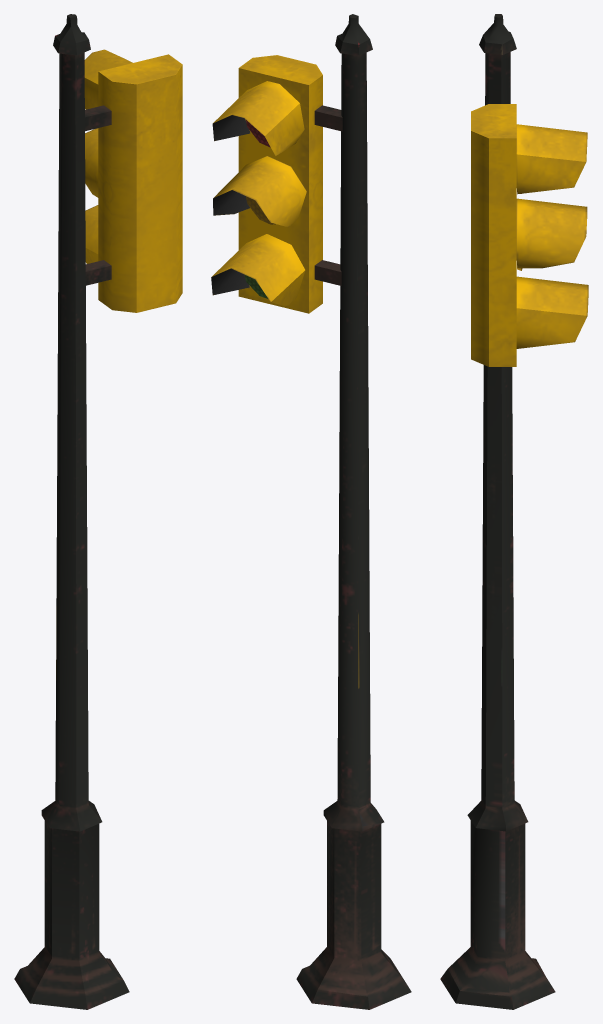
File: TRF0410005.fbx
3 views of the same model, side by side, from view 1: azimuth 30°, elevation 25°; view 2: azimuth 150°, elevation 25°; view 3: azimuth 270°, elevation 25° (orthographic).
Visible parts, largest first — view 1: smTRF0410005; view 2: smTRF0410005; view 3: smTRF0410005.
Boxes of the visible parts, box(x1,y1,x2,y2) form: smTRF0410005: box(14, 14, 182, 1009); smTRF0410005: box(211, 14, 411, 1009); smTRF0410005: box(440, 14, 588, 1009).
Bounding box in the file's own units: 59.84 × 355 × 49.3.
1 material, 1 textured.
